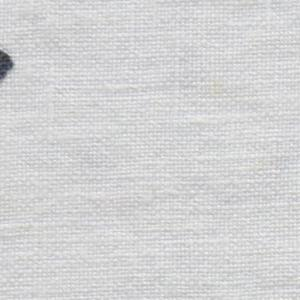Stain: (1, 44, 21, 93)
